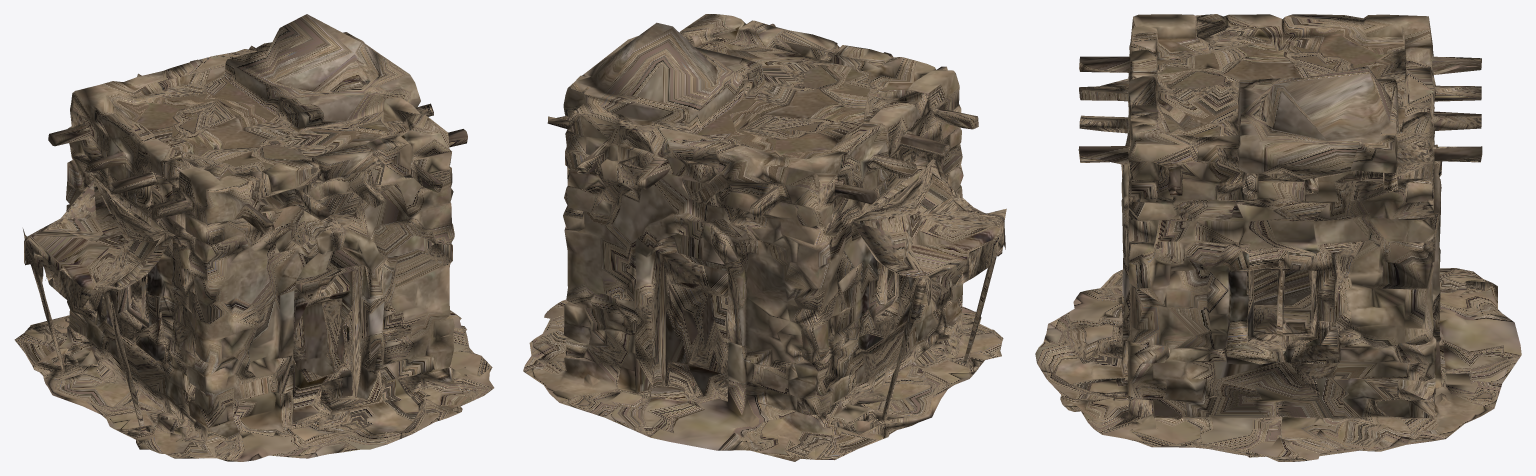
The model's file is jedhahouse.lod1.glb.
The picture shows the model from 3 angles, left to right: view 1: azimuth 30°, elevation 25°; view 2: azimuth 150°, elevation 25°; view 3: azimuth 270°, elevation 25°; orthographic projection. The views are drawn at different scales.
Parts seen in each view (by area): view 1: jedhahouse-centred; view 2: jedhahouse-centred; view 3: jedhahouse-centred.
Part boxes in pixels (x1,y1,x2,y2): jedhahouse-centred: (14, 14, 494, 461); jedhahouse-centred: (523, 14, 1006, 461); jedhahouse-centred: (1035, 14, 1521, 461).
Size of the model in its own units: 12.06 by 8.63 by 11.59.
Materials: 1 (1 with a texture image).
